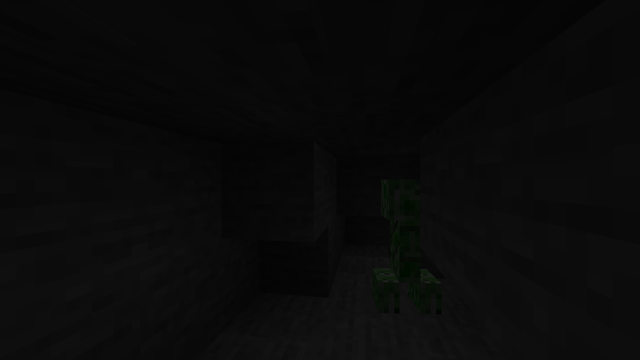creepers: (379, 173, 434, 317)
